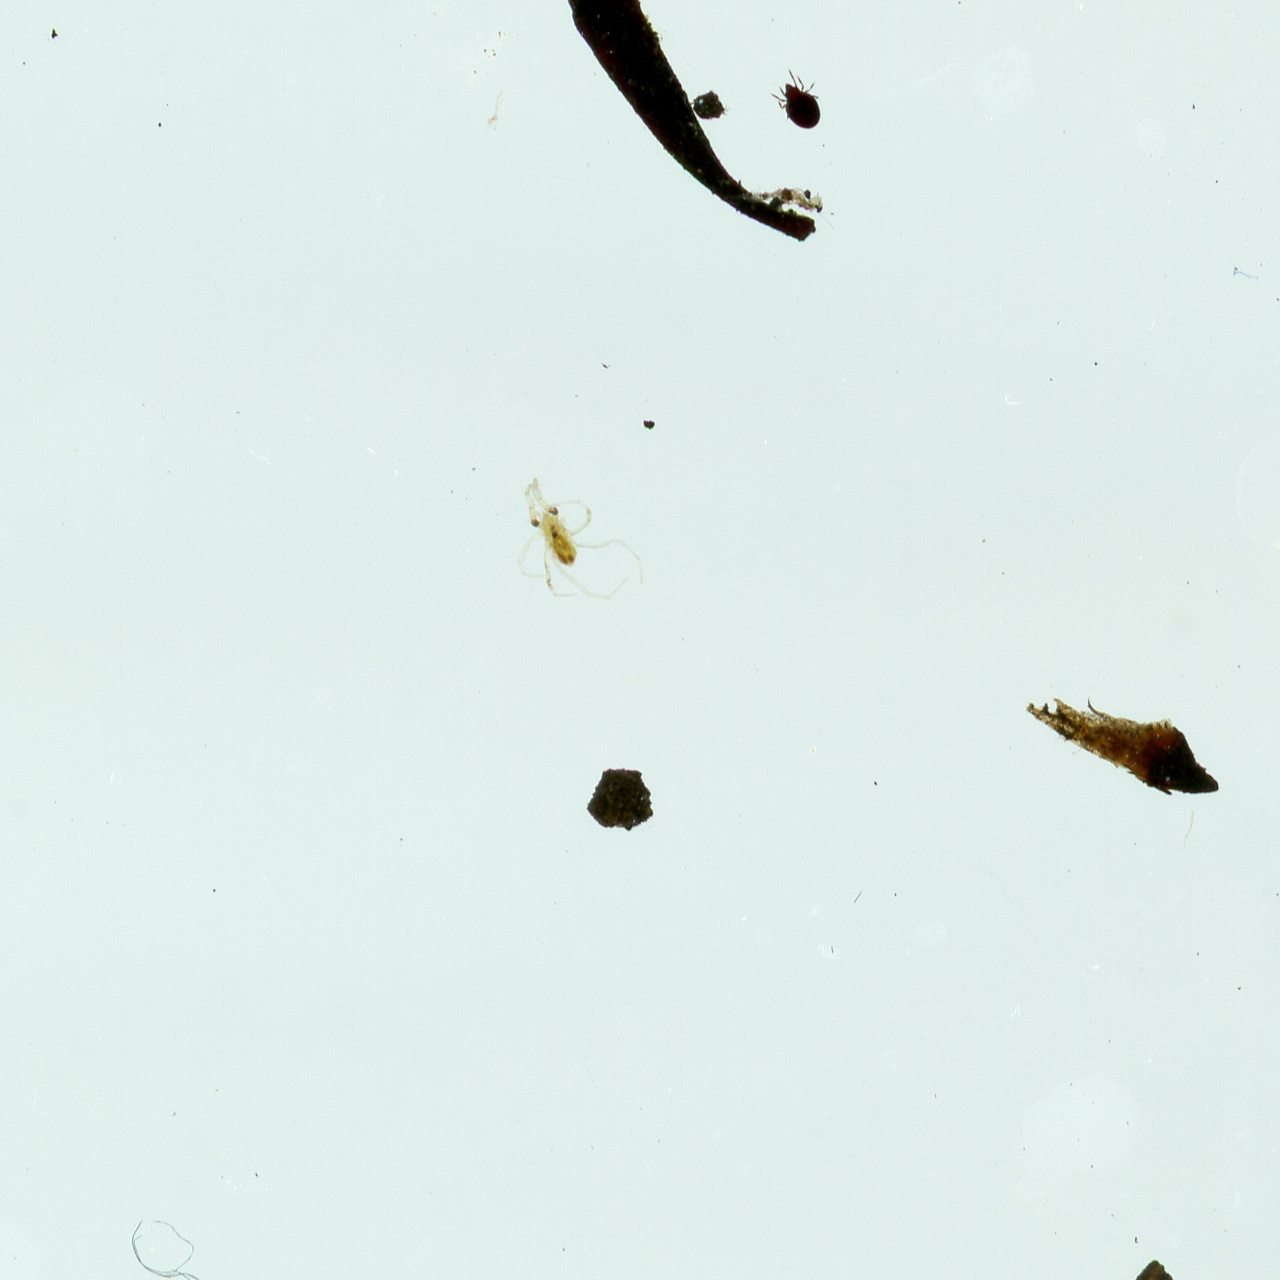arthropod: (504, 467, 659, 617), (768, 64, 835, 137)
